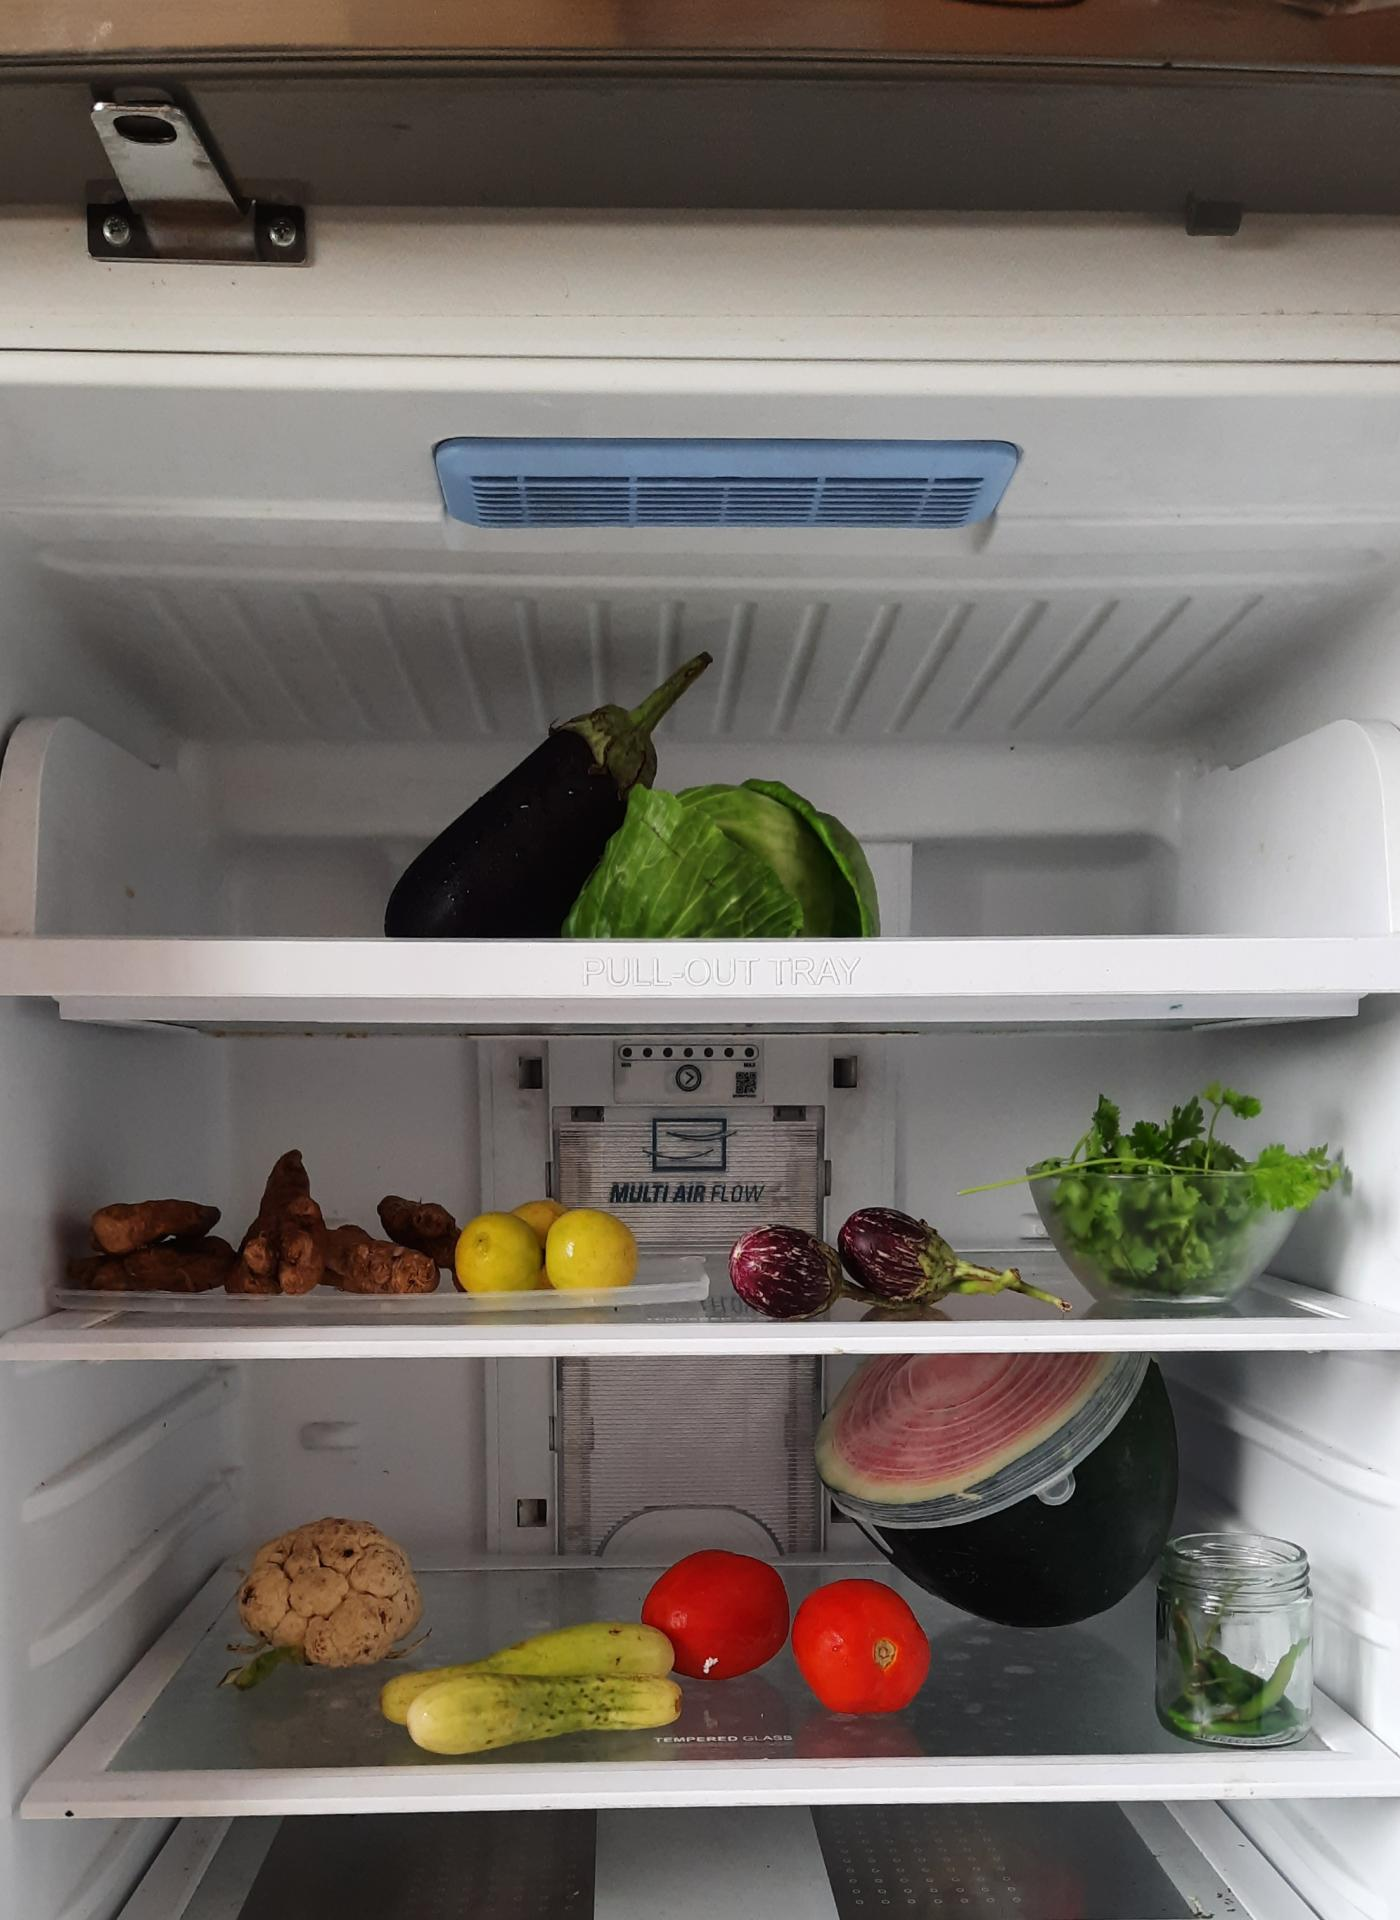brinjal: (382, 650, 696, 948), (729, 1203, 968, 1312)
cabbage: (586, 778, 884, 939)
cauliflower: (228, 1513, 431, 1665)
chillies: (1164, 1540, 1309, 1740)
coriander: (1033, 1090, 1321, 1298)
cucumber: (383, 1625, 686, 1758)
ginger: (70, 1140, 461, 1315)
lemon: (458, 1197, 647, 1294)
tomato: (647, 1550, 929, 1719)
watermelon: (807, 1334, 1176, 1616)
